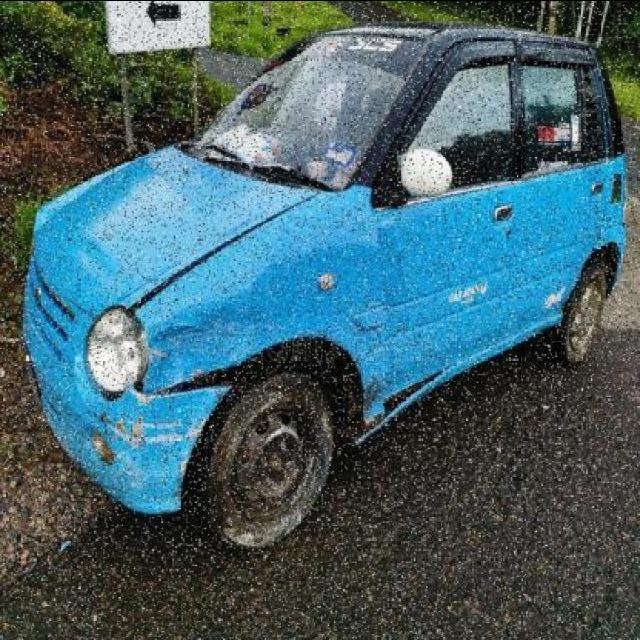fender-dent: (143, 260, 383, 434)
front-bumper-dent: (2, 349, 206, 512)
